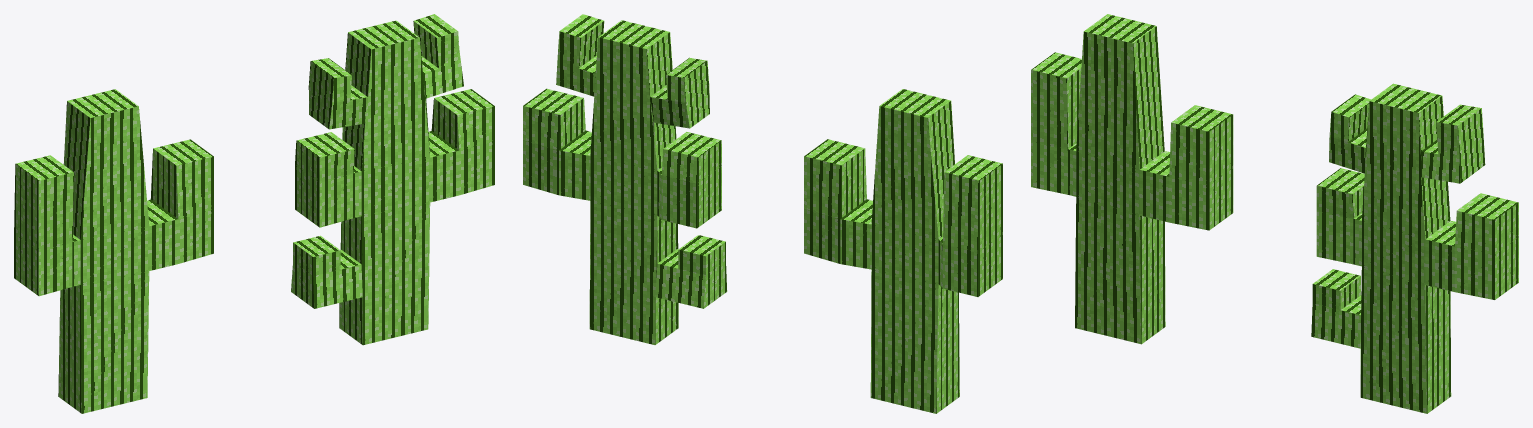
Rendered from BGN_CACTUS.fbx.
3 renders of one model, left to right at view 1: azimuth 30°, elevation 25°; view 2: azimuth 150°, elevation 25°; view 3: azimuth 330°, elevation 25°, orthographic.
Visible parts, largest first — view 1: CACTUS_2, CACTUS_1; view 2: CACTUS_2, CACTUS_1; view 3: CACTUS_2, CACTUS_1.
Part boxes in pixels (box(x1,y1,x2,y2)): CACTUS_2: box(291, 14, 494, 345); CACTUS_1: box(14, 89, 213, 413); CACTUS_2: box(523, 14, 727, 344); CACTUS_1: box(804, 89, 1002, 413); CACTUS_2: box(1311, 83, 1518, 413); CACTUS_1: box(1031, 14, 1233, 344).
Bounding box in the file's own units: 583 × 359 × 60.17.
Materials: 1 (1 with a texture image).
